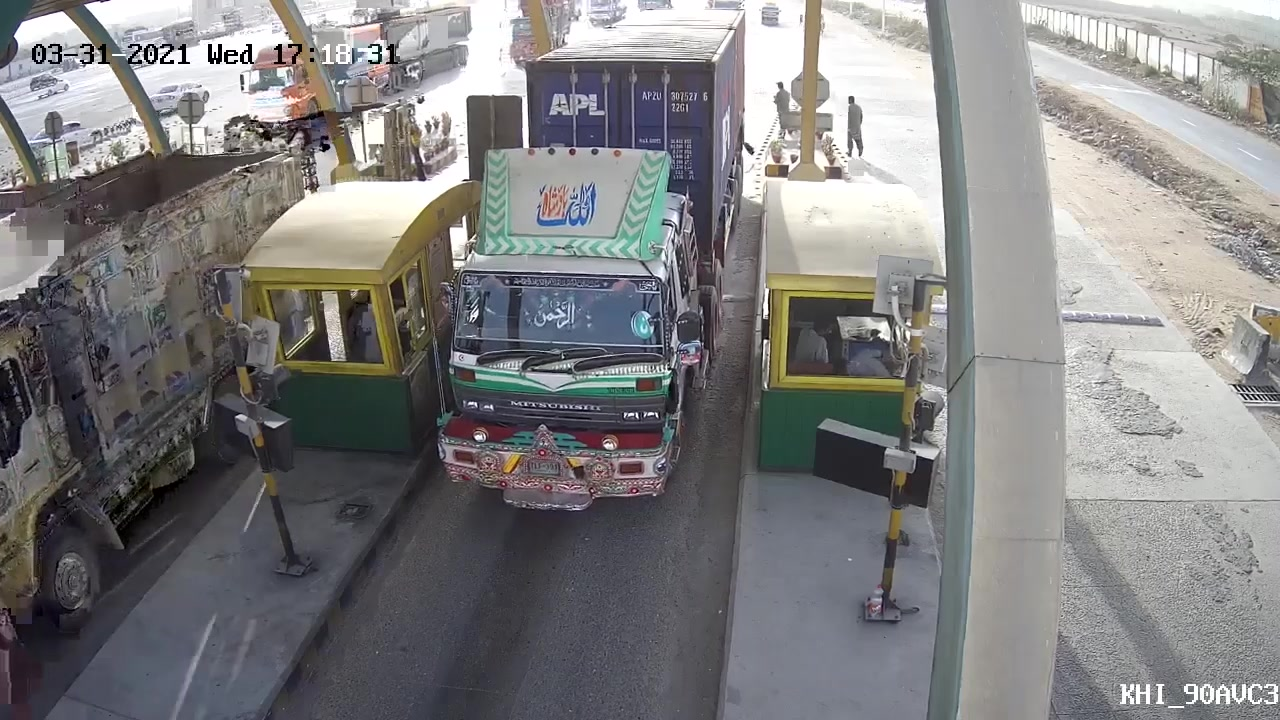F6: (433, 59, 726, 521)
